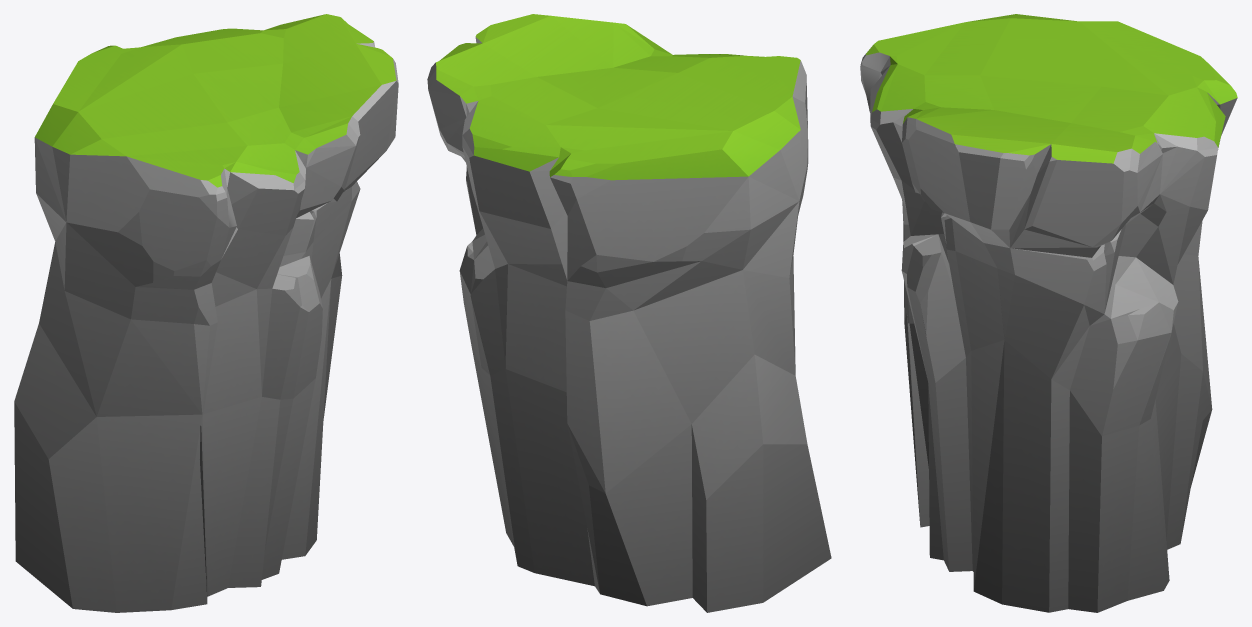
File: Cliff_Pillar.fbx
The picture shows the model from 3 angles, left to right: view 1: azimuth 30°, elevation 25°; view 2: azimuth 150°, elevation 25°; view 3: azimuth 270°, elevation 25°; orthographic projection. The views are drawn at different scales.
Parts seen in each view (by area): view 1: Cliff_Pillar; view 2: Cliff_Pillar; view 3: Cliff_Pillar.
Boxes of the visible parts, left/top/right/bottom form: Cliff_Pillar: left=14, top=14, right=398, bottom=612; Cliff_Pillar: left=427, top=14, right=831, bottom=612; Cliff_Pillar: left=860, top=14, right=1237, bottom=612.
Bounding box in the file's own units: 22.99 × 30.12 × 20.91.
